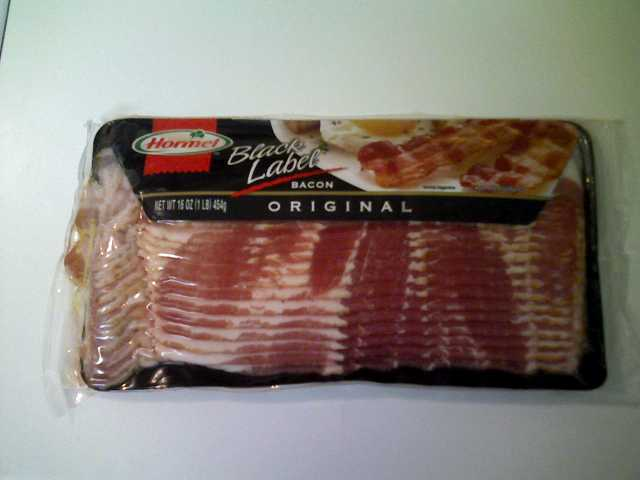bacon: (71, 123, 591, 383)
